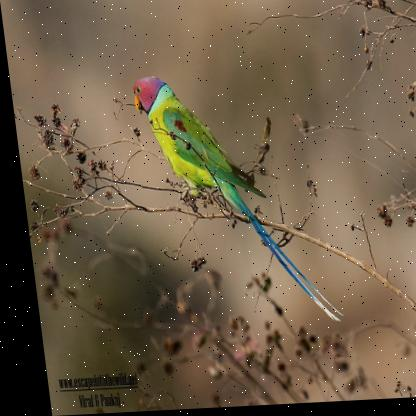Burung: (128, 70, 336, 332)
